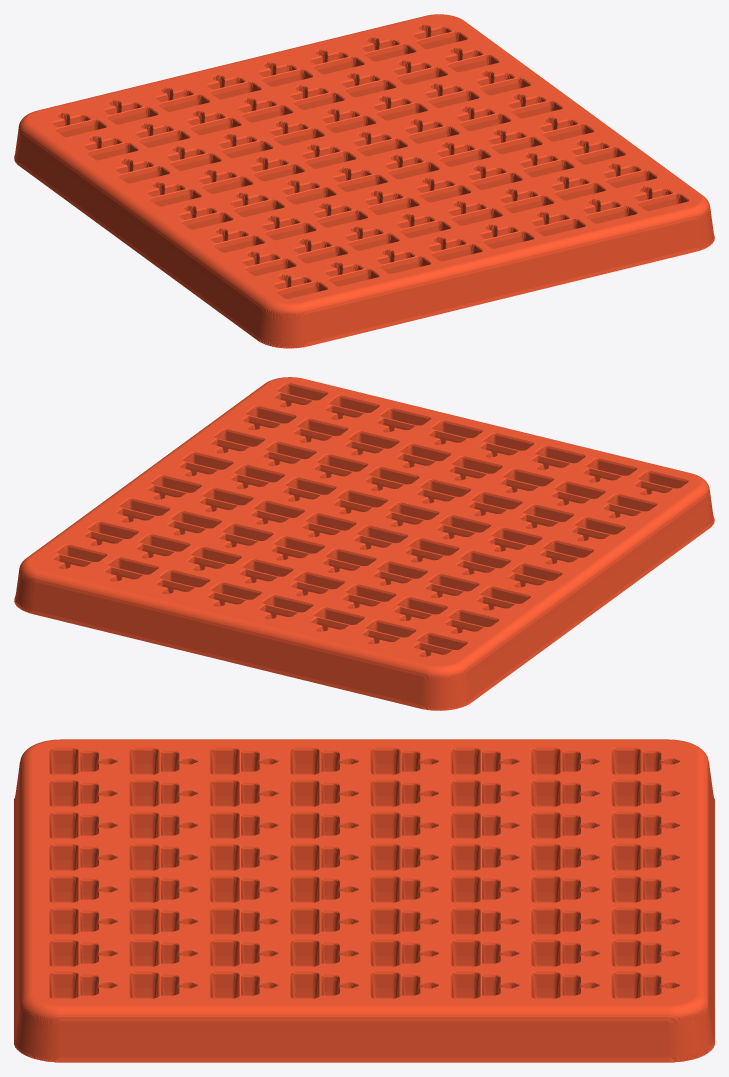
The model's file is mold.glb.
3 renders of one model, top to bottom at view 1: azimuth 30°, elevation 25°; view 2: azimuth 150°, elevation 25°; view 3: azimuth 270°, elevation 25°, orthographic. The views are drawn at different scales.
Visible parts, largest first — view 1: geometry_0; view 2: geometry_0; view 3: geometry_0.
Part boxes in pixels (left/top/right/bottom): geometry_0: left=14, top=14, right=714, bottom=348; geometry_0: left=14, top=377, right=714, bottom=710; geometry_0: left=14, top=739, right=714, bottom=1062.
Size of the model in its own units: 0.1283 by 0.0105 by 0.1355.
